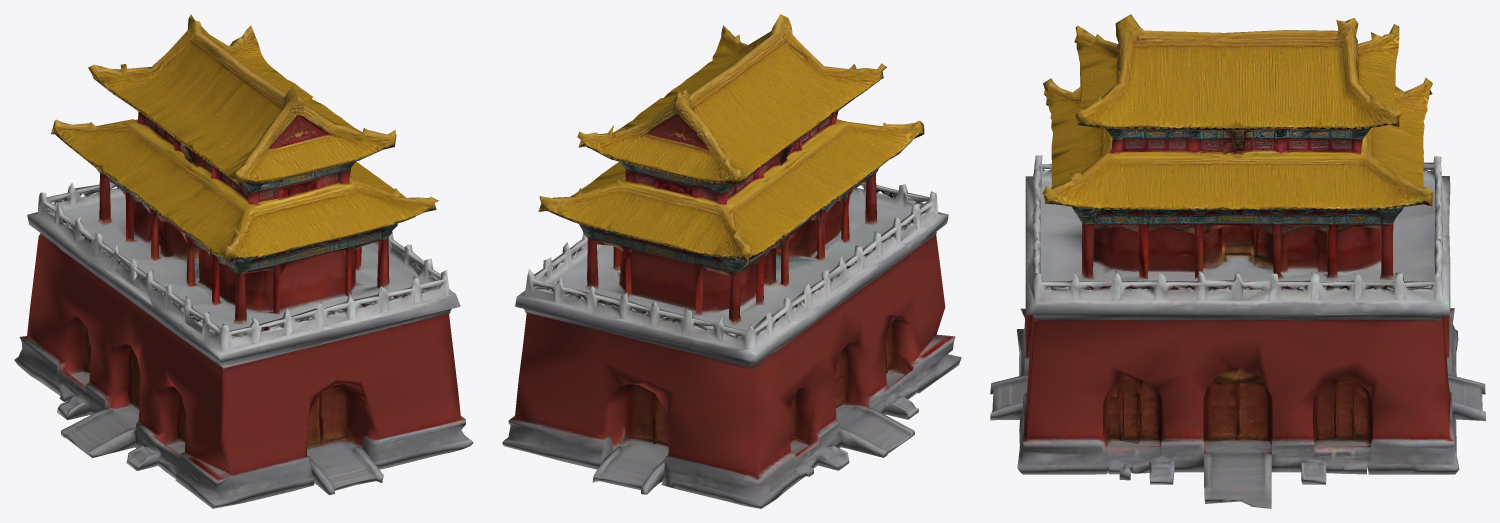
The model's file is court-gate.glb.
3 renders of one model, left to right at view 1: azimuth 30°, elevation 25°; view 2: azimuth 150°, elevation 25°; view 3: azimuth 270°, elevation 25°, orthographic. The views are drawn at different scales.
Visible parts, largest first — view 1: tripo_node_f6e6ba68-ad13-4303-942b-6fb50a2edd47; view 2: tripo_node_f6e6ba68-ad13-4303-942b-6fb50a2edd47; view 3: tripo_node_f6e6ba68-ad13-4303-942b-6fb50a2edd47.
Boxes of the visible parts, x1,y1,x2,y2 form: tripo_node_f6e6ba68-ad13-4303-942b-6fb50a2edd47: (14, 14, 473, 508); tripo_node_f6e6ba68-ad13-4303-942b-6fb50a2edd47: (502, 14, 961, 508); tripo_node_f6e6ba68-ad13-4303-942b-6fb50a2edd47: (990, 14, 1485, 508).
Size of the model in its own units: 0.9232 by 0.8741 by 1.
1 material, 1 textured.
